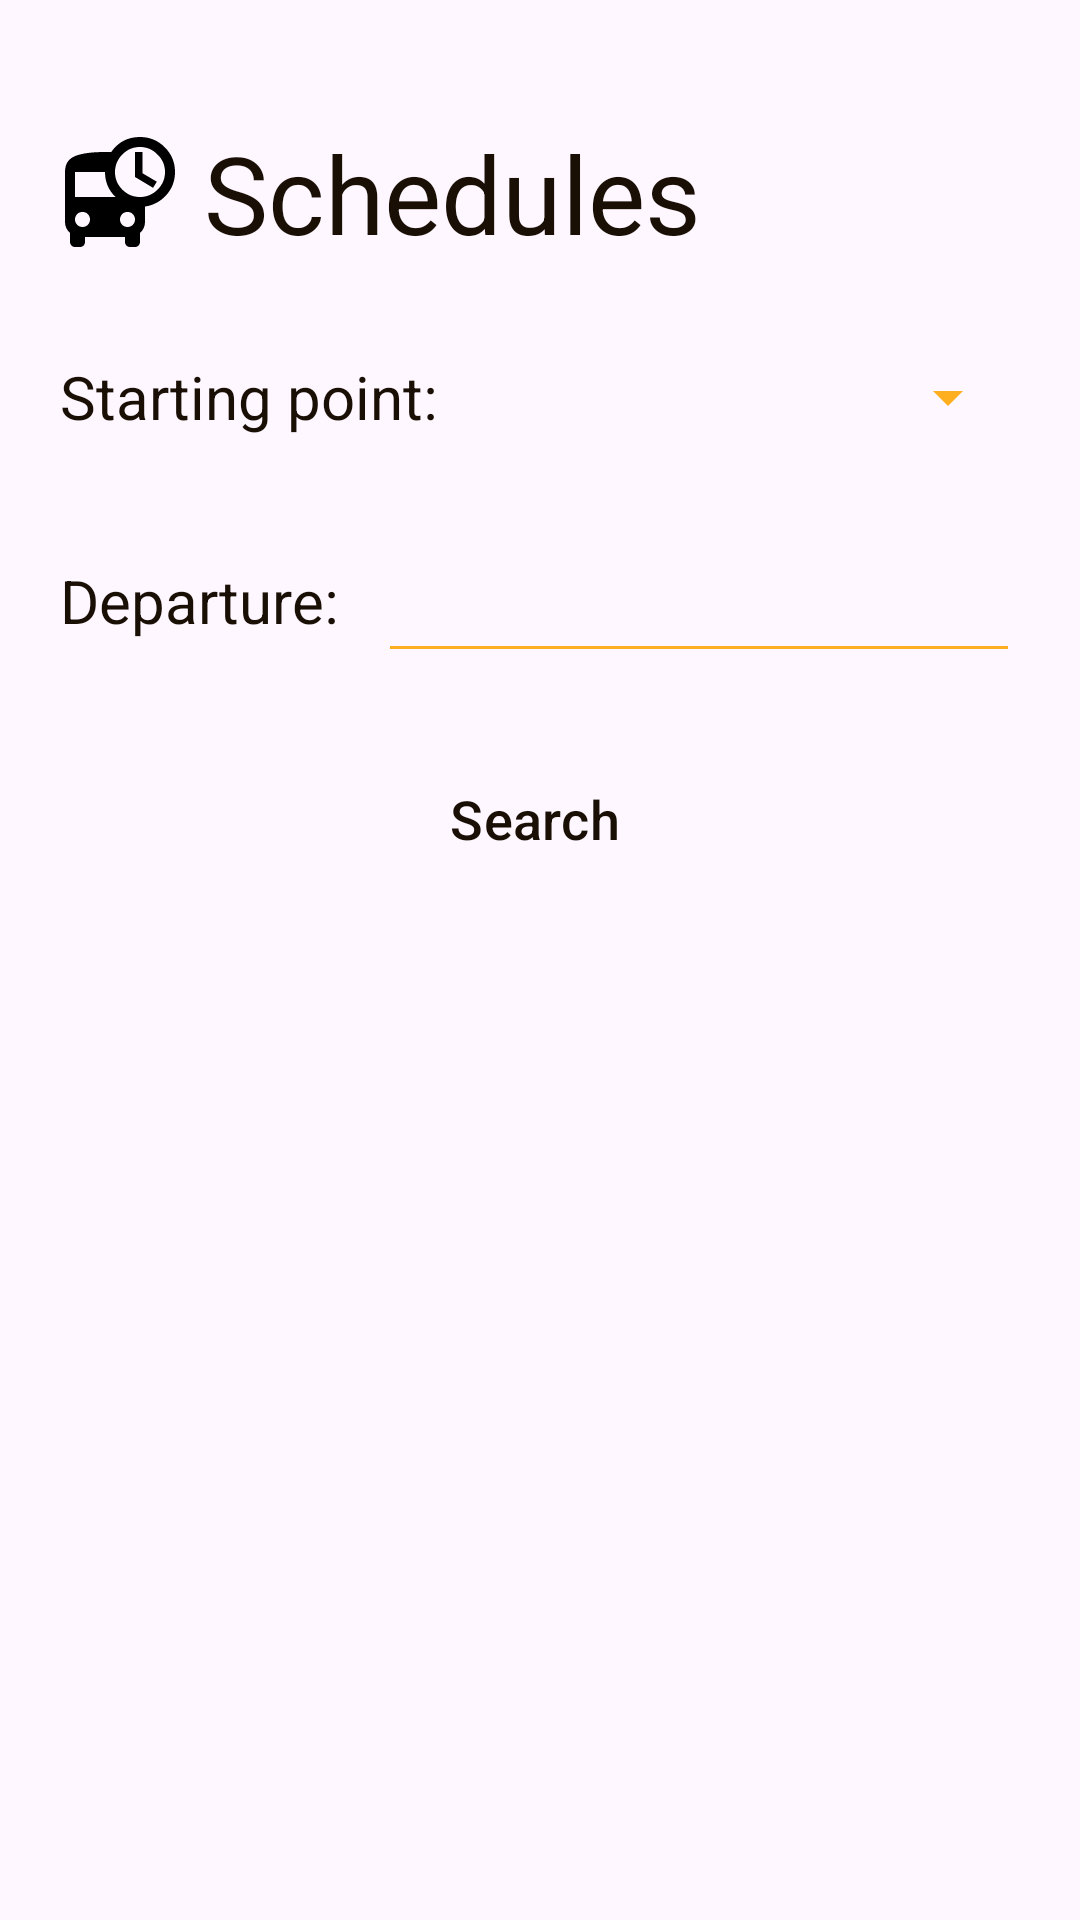

Named icons in this screenshot (1080x1920) and their bounding boxes, (x1, y1, x2, y2):
bus clock: (65, 137, 175, 247)
